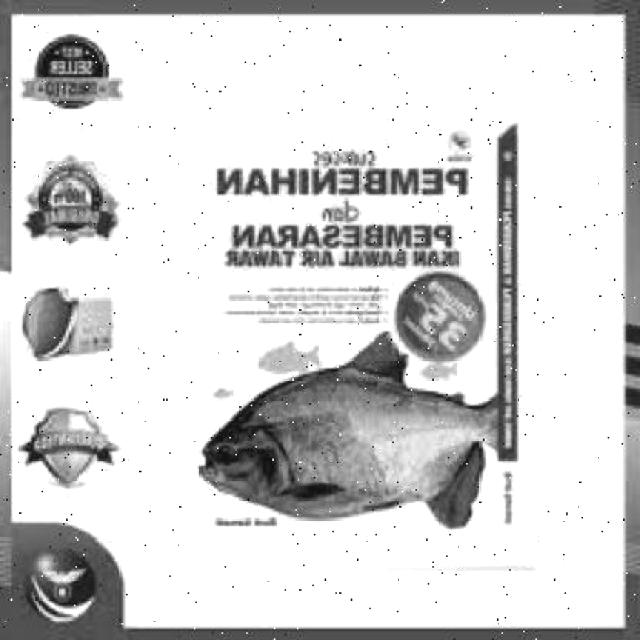ikan-pacu: (194, 366, 500, 526)
